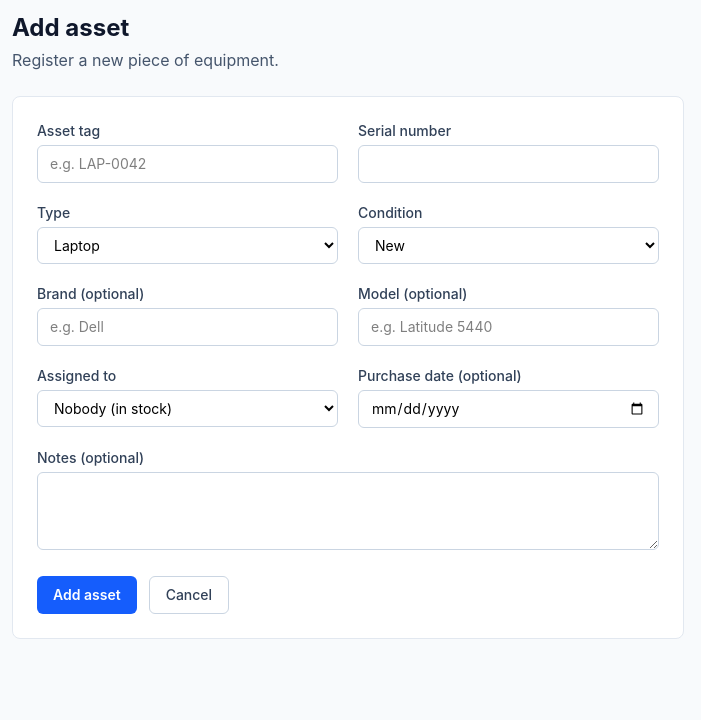
it: AssetFormPage: add › shows a friendly message for a duplicate tag or serial number
Step 1. Type "LAP-0001" into the field labelled "Asset tag" → (188, 164), box [37,145,338,183]
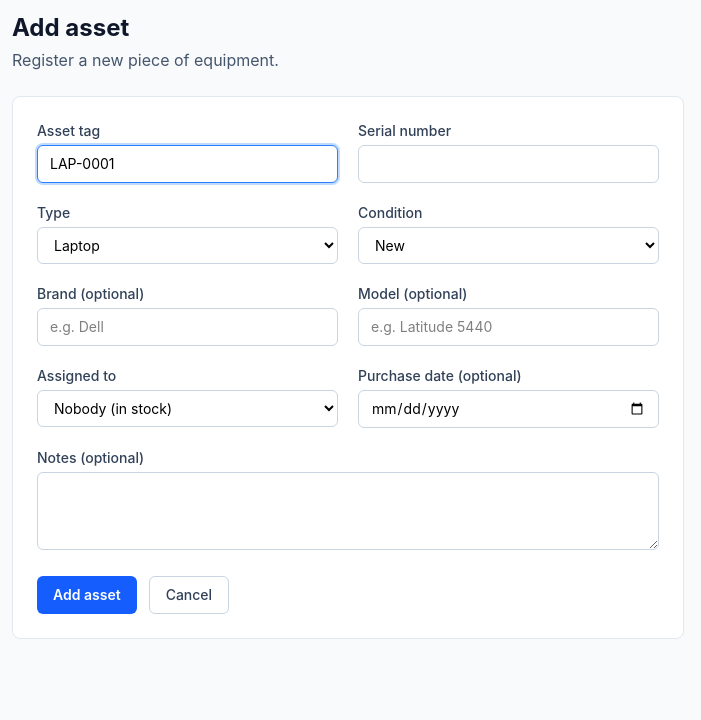
Step 2. Type "DUPLICATE" into the field labelled "Serial number" → (508, 164), box [358,145,659,183]
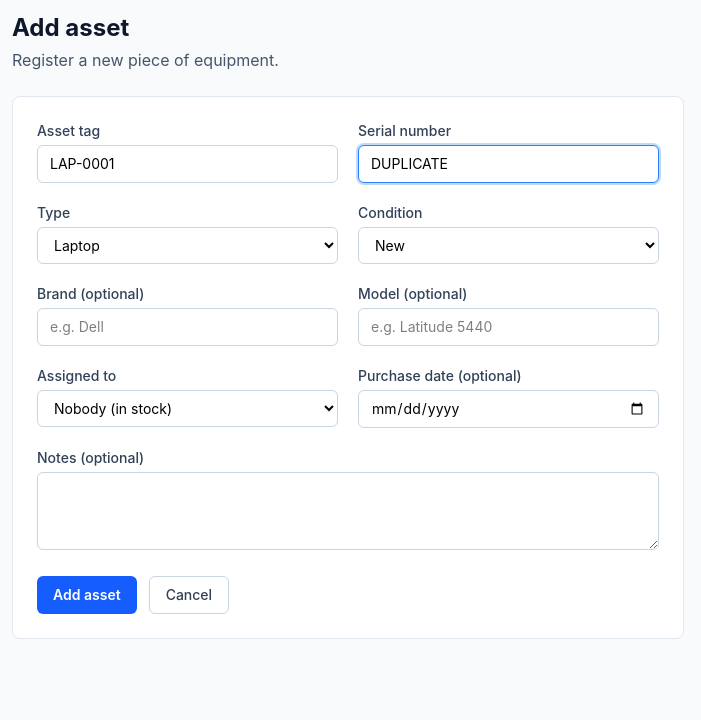
Step 3. Click the button "Add asset" → (87, 595), box [37,576,137,614]
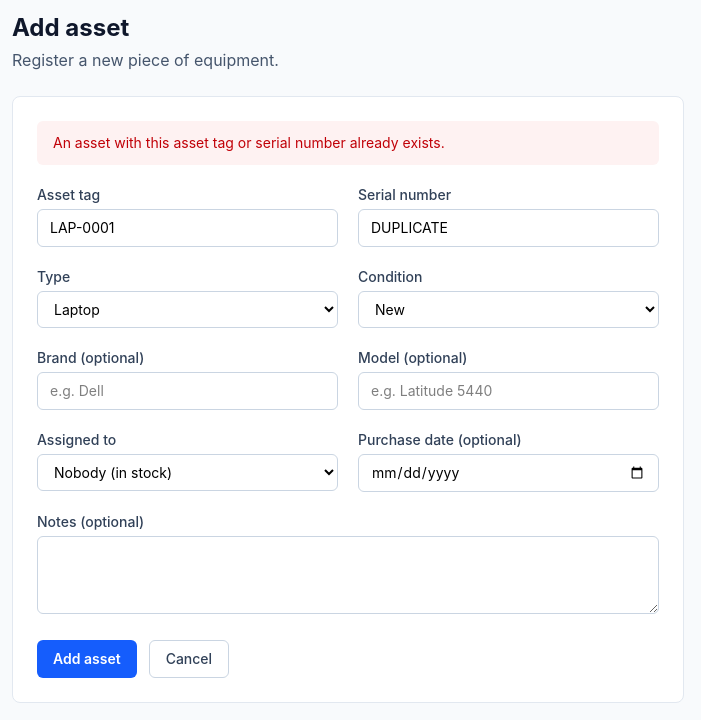
expect the message shows "already exists": met, box [53,134,445,151]
